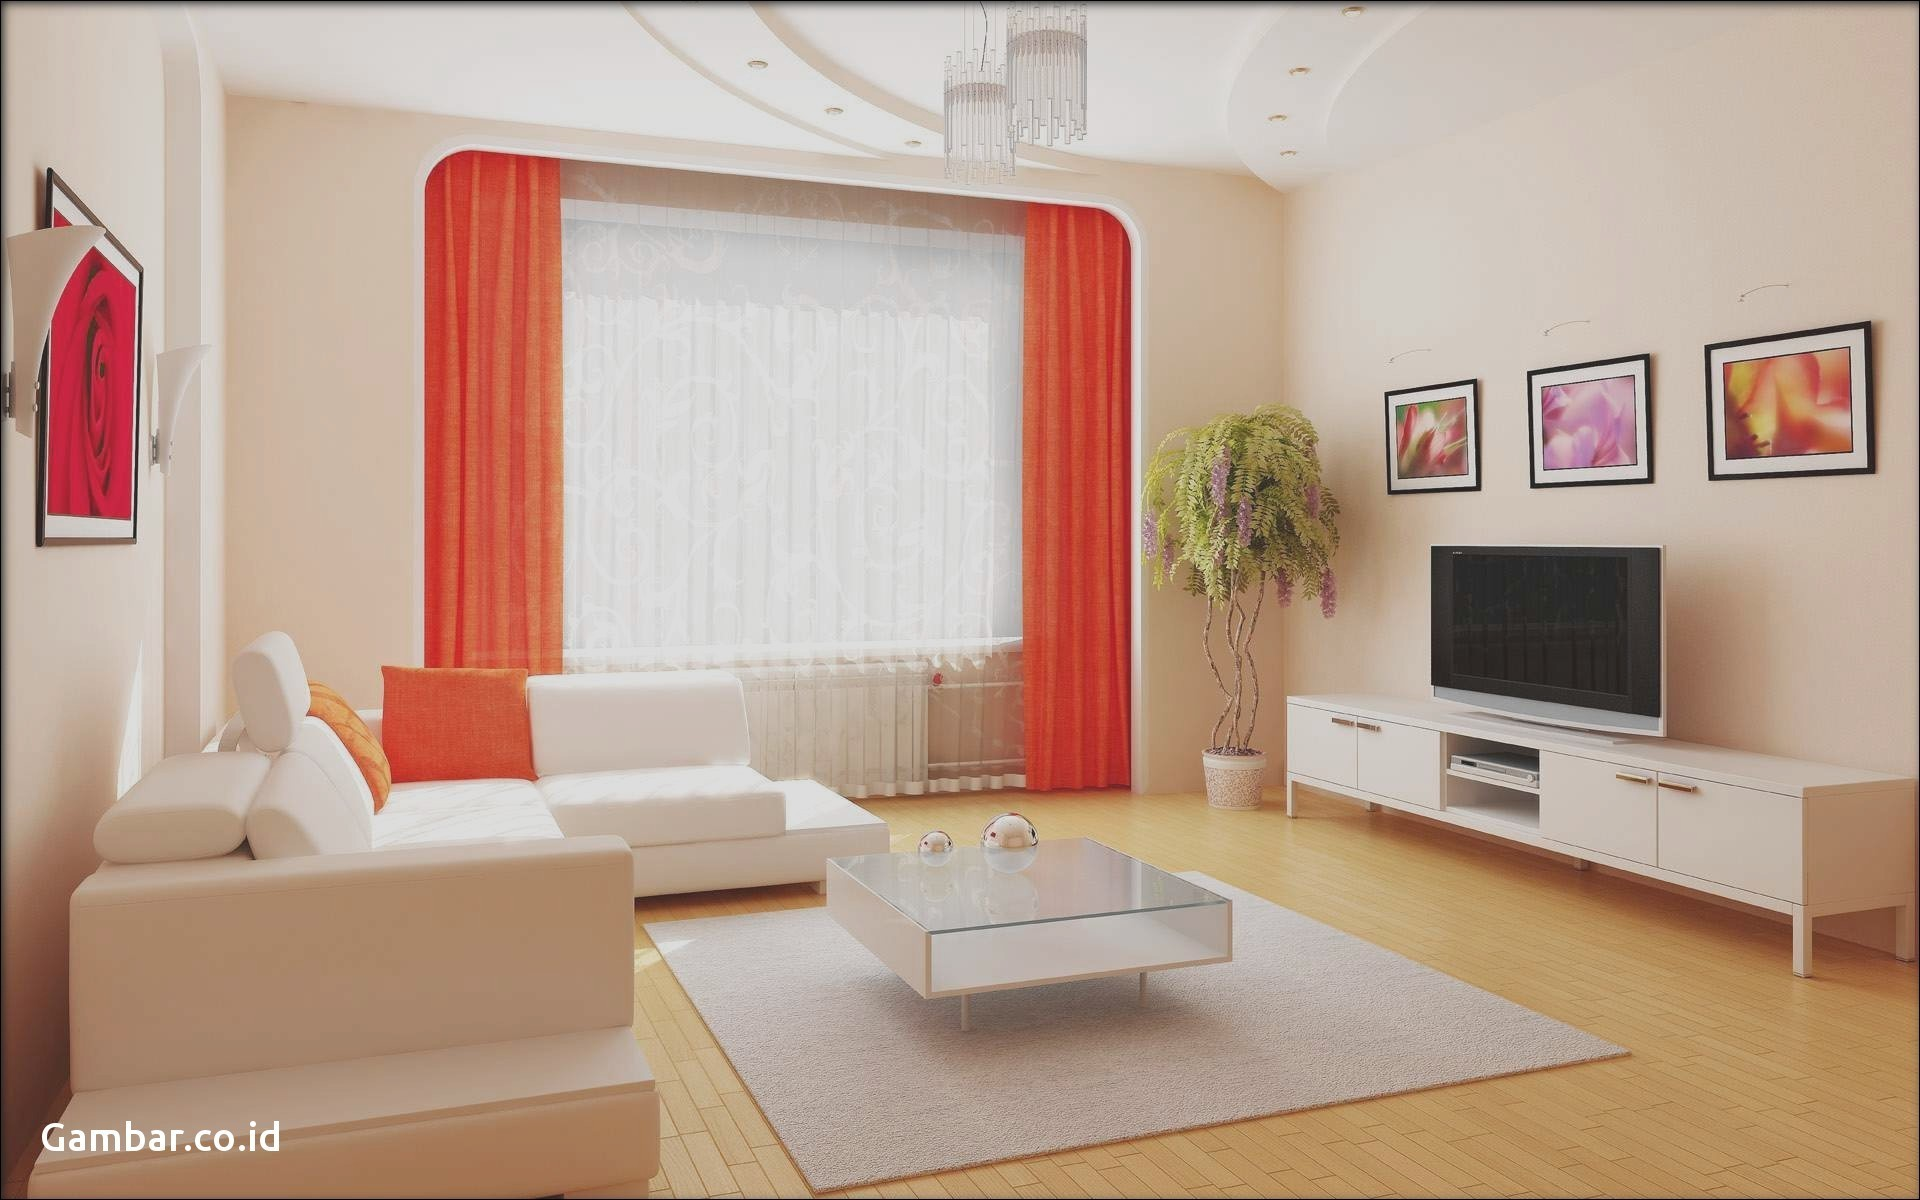bantal: (377, 657, 538, 787)
lukisan: (37, 169, 142, 550), (1704, 328, 1883, 473), (1523, 366, 1662, 489), (1380, 383, 1489, 496)
meja: (825, 836, 1239, 1022)
sova: (43, 686, 900, 1200)
tanaman: (1150, 406, 1331, 807)
tv: (1422, 543, 1673, 738)
